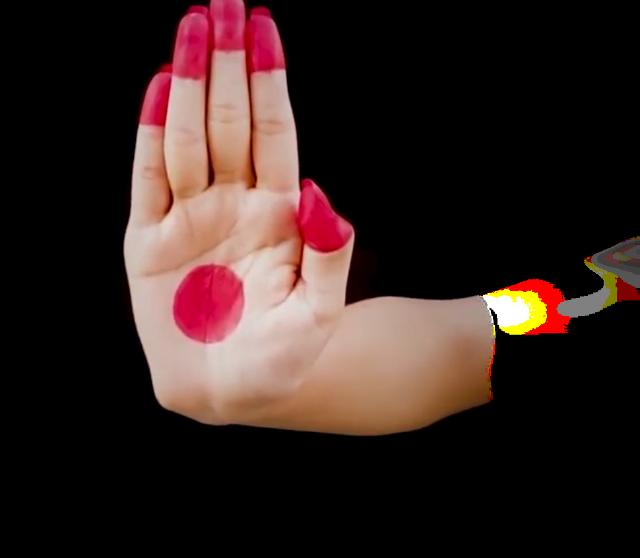pataka: (124, 0, 355, 412)
